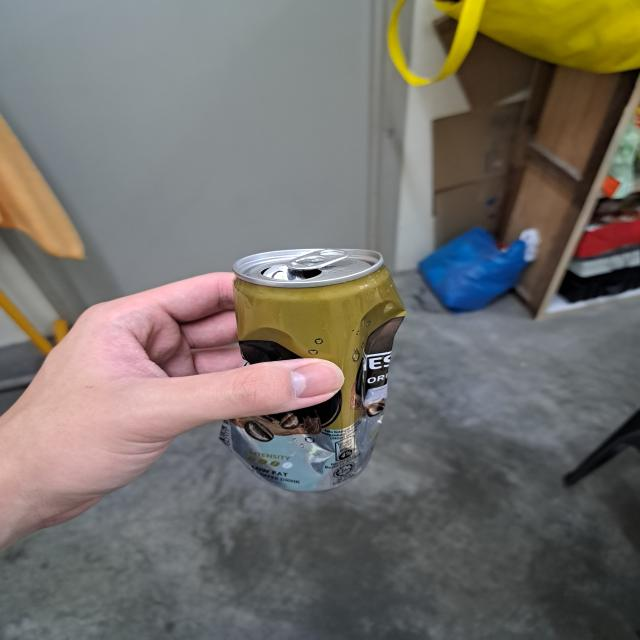can: (217, 248, 406, 492)
pop tab: (284, 247, 351, 271)
